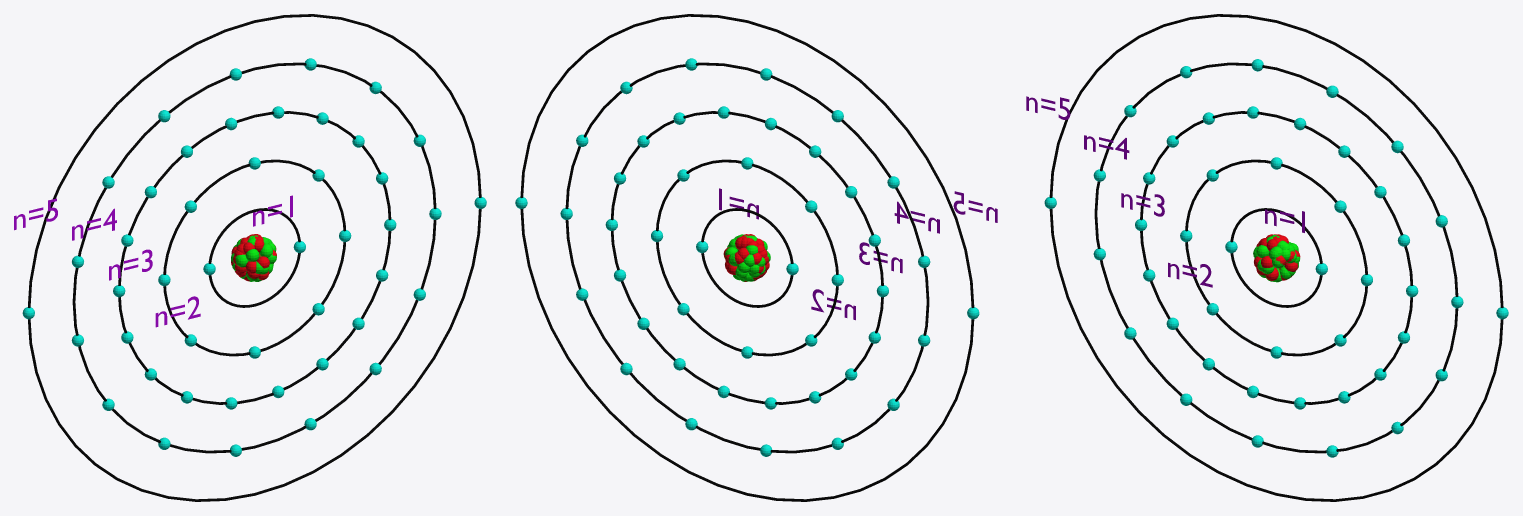
File: atomo_45_n.glb
The picture shows the model from 3 angles, left to right: view 1: azimuth 30°, elevation 25°; view 2: azimuth 150°, elevation 25°; view 3: azimuth 330°, elevation 25°; orthographic projection.
Parts seen in each view (by area): view 1: orbital_5, orbital_4, orbital_3, orbital_2, orbital_1; view 2: orbital_5, orbital_4, orbital_3, orbital_2, orbital_1; view 3: orbital_5, orbital_4, orbital_3, orbital_2, orbital_1.
Part boxes in pixels (x1=…): orbital_5: x1=27, y1=14, x2=481, y2=501; orbital_4: x1=72, y1=62, x2=436, y2=453; orbital_3: x1=118, y1=111, x2=391, y2=404; orbital_2: x1=163, y1=159, x2=345, y2=356; orbital_1: x1=208, y1=208, x2=300, y2=307; orbital_5: x1=520, y1=14, x2=974, y2=501; orbital_4: x1=565, y1=62, x2=929, y2=453; orbital_3: x1=610, y1=111, x2=883, y2=404; orbital_2: x1=656, y1=159, x2=838, y2=356; orbital_1: x1=701, y1=208, x2=793, y2=307; orbital_5: x1=1049, y1=14, x2=1503, y2=501; orbital_4: x1=1094, y1=62, x2=1458, y2=453; orbital_3: x1=1140, y1=111, x2=1413, y2=404; orbital_2: x1=1185, y1=159, x2=1367, y2=356; orbital_1: x1=1230, y1=208, x2=1322, y2=307.
Size of the model in its own units: 15.83 by 15.08 by 1.37.
